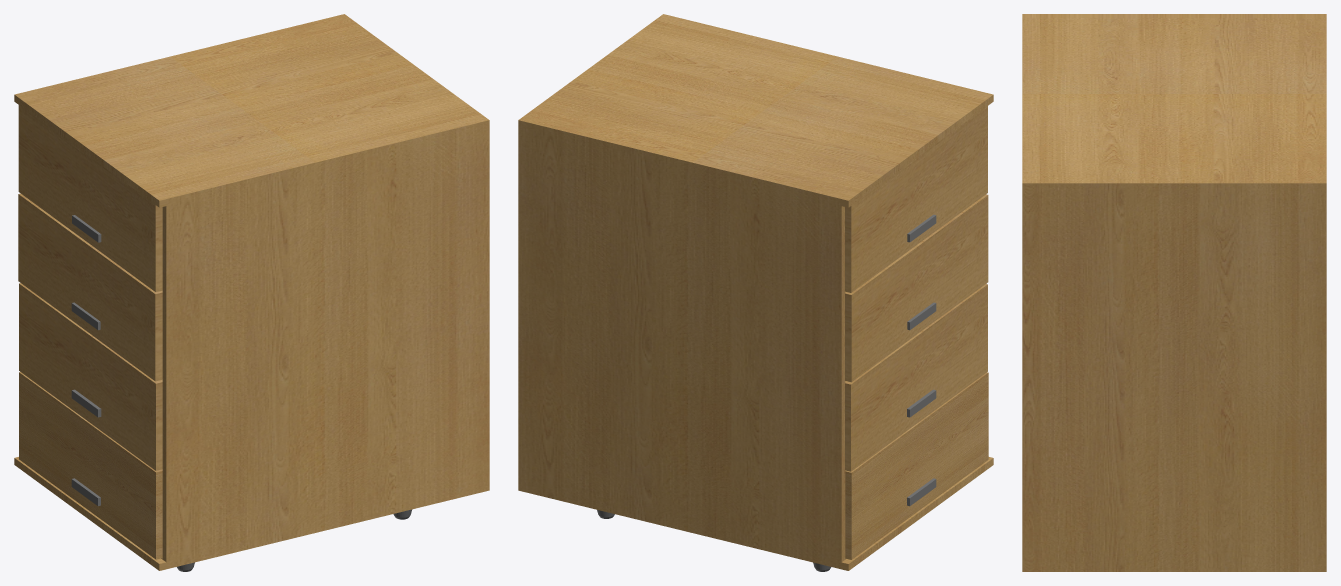
File: tumba(v1.0).fbx
3 views of the same model, side by side, from view 1: azimuth 30°, elevation 25°; view 2: azimuth 150°, elevation 25°; view 3: azimuth 270°, elevation 25° (orthographic). The views are drawn at different scales.
Visible parts, largest first — view 1: body, box2.001, box3.001, box4.001, box1.001; view 2: body, box2.001, box4.001, box3.001, box1.001; view 3: body.
Part boxes in pixels (x1,y1,x2,y2): body: (14, 14, 489, 570); box2.001: (18, 193, 162, 381); box3.001: (19, 283, 162, 470); box4.001: (19, 372, 162, 559); box1.001: (18, 105, 162, 291); body: (518, 14, 993, 570); box2.001: (845, 194, 988, 382); box4.001: (845, 372, 988, 559); box3.001: (845, 284, 987, 471); box1.001: (845, 106, 987, 292); body: (1022, 14, 1326, 571).
Size of the model in its own units: 0.5542 by 0.419 by 0.6224.
